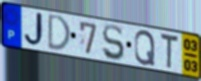7: (78, 21, 98, 56)
D: (47, 13, 72, 53)
J: (23, 11, 47, 48)
Q: (134, 29, 157, 68)
S: (101, 23, 126, 63)
T: (159, 32, 180, 72)
